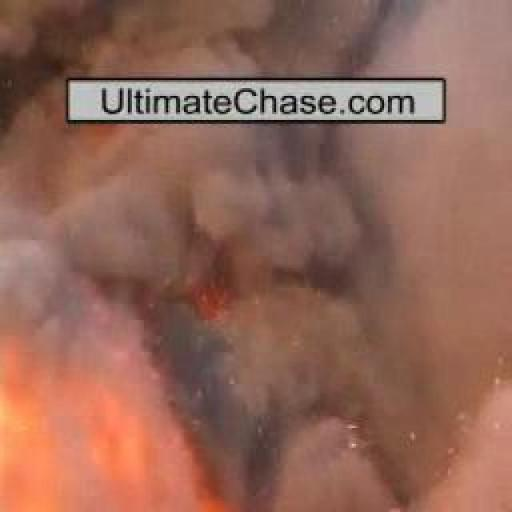smoke: (0, 326, 236, 512), (176, 250, 250, 318), (82, 114, 132, 156)
